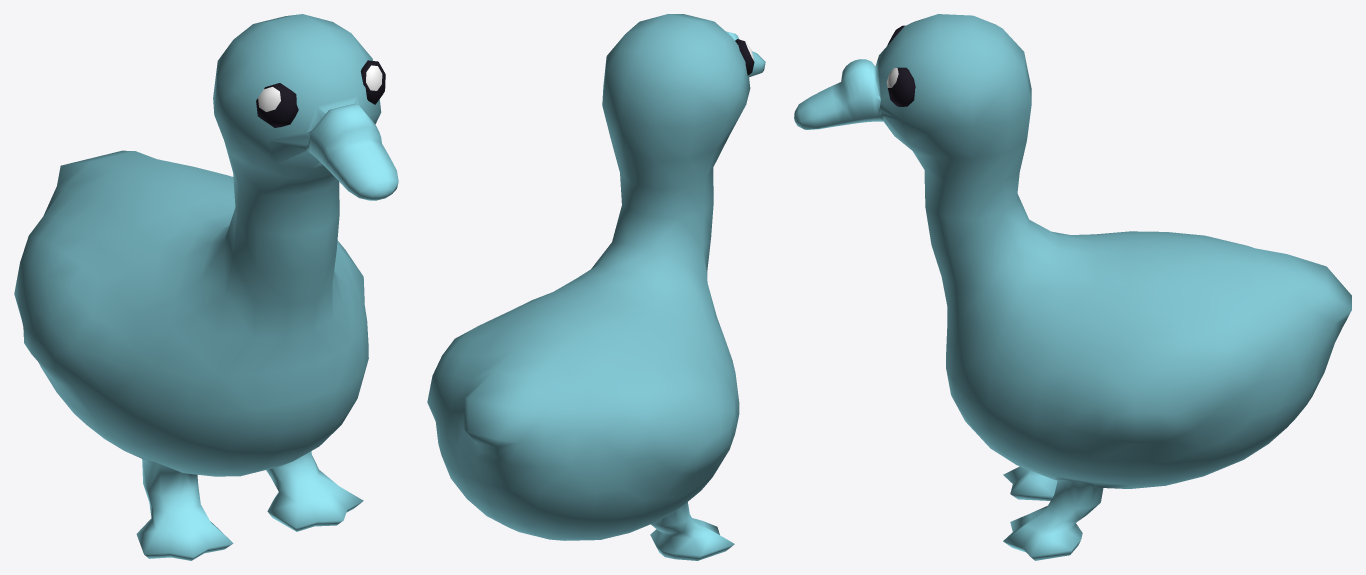
File: Glass_Goose.glb
3 renders of one model, left to right at view 1: azimuth 30°, elevation 25°; view 2: azimuth 150°, elevation 25°; view 3: azimuth 270°, elevation 25°, orthographic. The views are drawn at different scales.
Visible parts, largest first — view 1: Hunt_Glass_Goose; view 2: Hunt_Glass_Goose; view 3: Hunt_Glass_Goose.
Boxes of the visible parts, x1=… form: Hunt_Glass_Goose: x1=14, y1=14, x2=398, y2=560; Hunt_Glass_Goose: x1=427, y1=14, x2=765, y2=560; Hunt_Glass_Goose: x1=794, y1=14, x2=1351, y2=560.
Size of the model in its own units: 0.3088 by 0.5239 by 0.5364.
